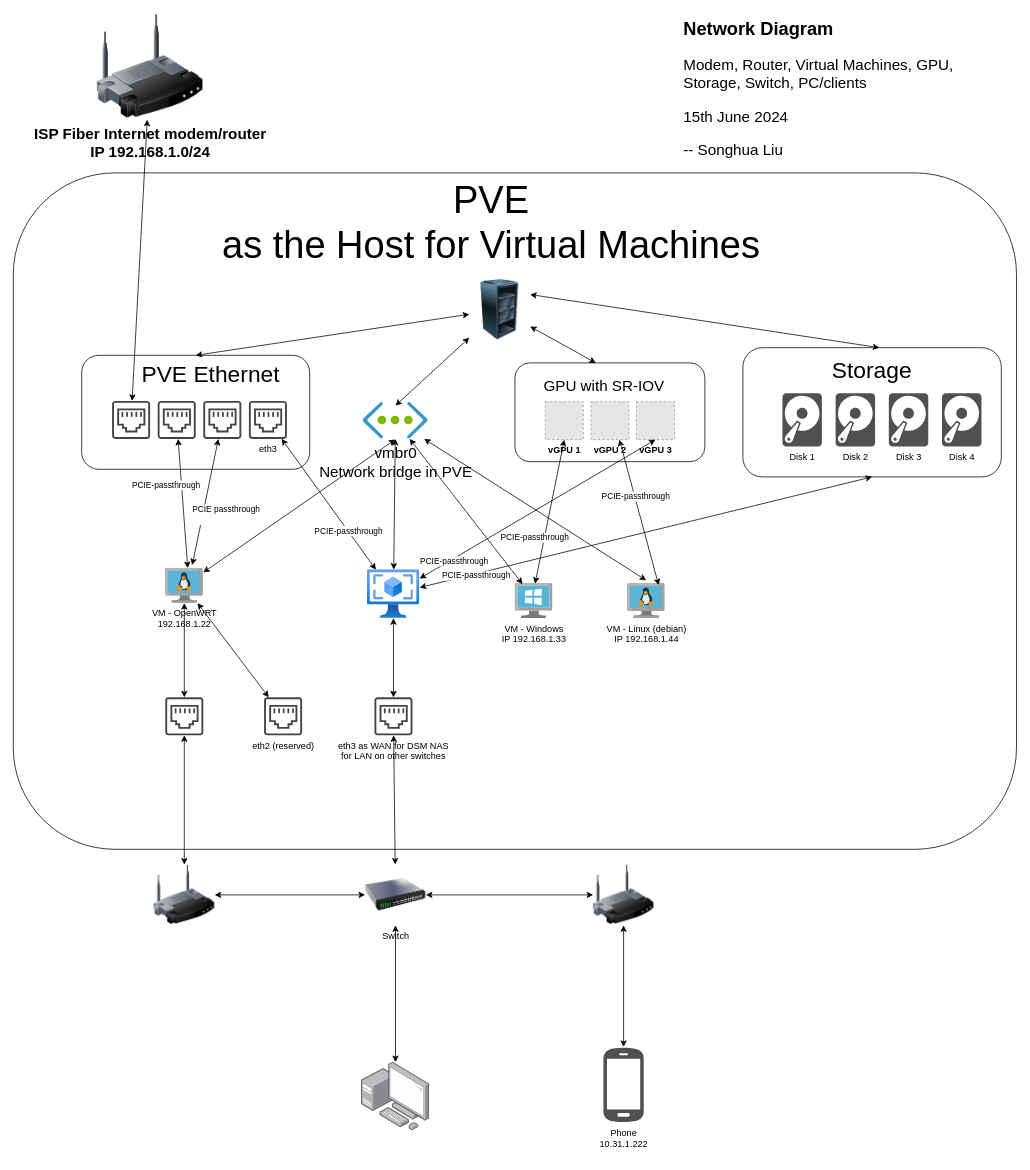
Some shapes in this 1030 by 1170 pixel diagram are drawn without their labels. Grey dashed boxes stand in for pictures. Here are the shapes that lost their labels. From the top down, the centre of each, then its label:
At [499,309]: "PVE IP 192.168.1.200".
At [131,420]: "eth0".
At [176,420]: "eth1".
At [222,420]: "eth2".
At [393,593]: "VM - Synology DSM 7.2 IP 192.168.1.11 IP 10.31.22.33 (As default)".
At [184,716]: "eth1 as LAN on openwrt for WAN on other routers".
At [184,894]: "Xiaomi 7000 Router 10.31.0.1 Network Mask 255.255.0.0".
At [623,894]: "Xiaomi 7000 Router Mesh Network via Ethernet cable".
At [395,1096]: "PC IP 10.31.2.111".
